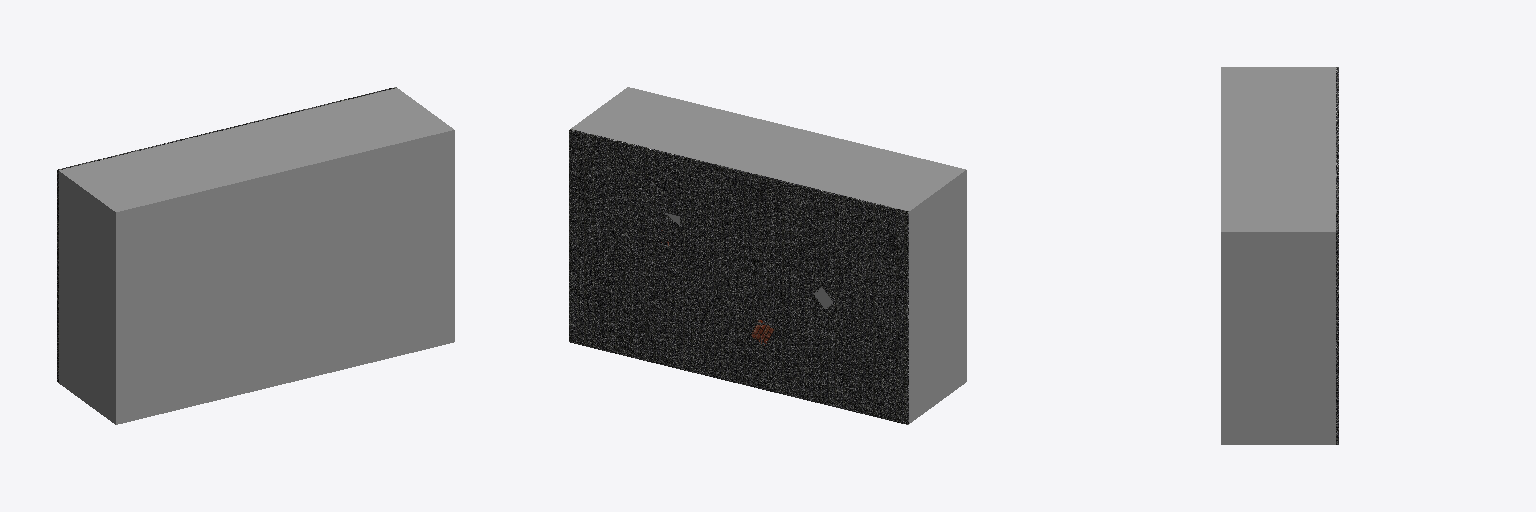
3 renders of one model, left to right at view 1: azimuth 30°, elevation 25°; view 2: azimuth 150°, elevation 25°; view 3: azimuth 270°, elevation 25°, orthographic.
Visible parts, largest first — view 1: Room_Cube.001; view 2: Room_Cube.001; view 3: Room_Cube.001.
Boxes of the visible parts, x1=… form: Room_Cube.001: x1=57, y1=87, x2=454, y2=424; Room_Cube.001: x1=569, y1=87, x2=966, y2=424; Room_Cube.001: x1=1221, y1=67, x2=1338, y2=444.
Size of the model in its own units: 10.01 by 6 by 3.
7 materials, 5 textured.